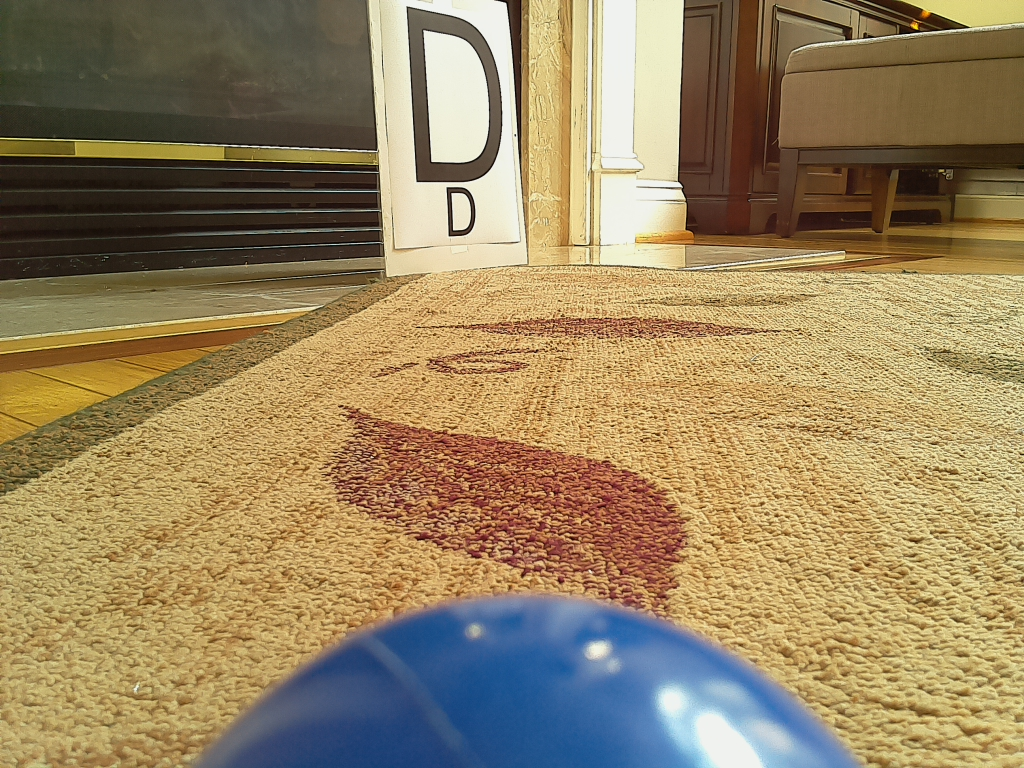letter: (417, 9, 502, 182)
